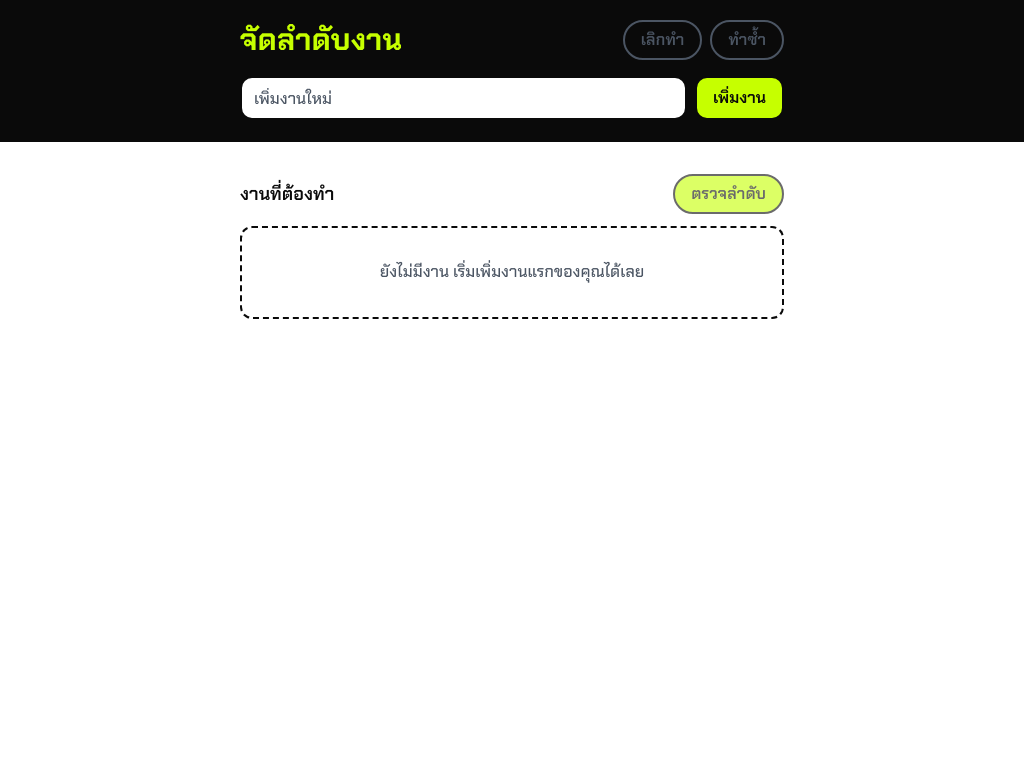
Test: review mode (slice 1) › AC-6.4 focus goes to the upper card on open and back to the review button after closing with the close button
Type "A" into the field labelled "เพิ่มงานใหม่".
click(464, 98); type("A")  # box top-left (240, 76), bottom-right (687, 120)
Then press Enter
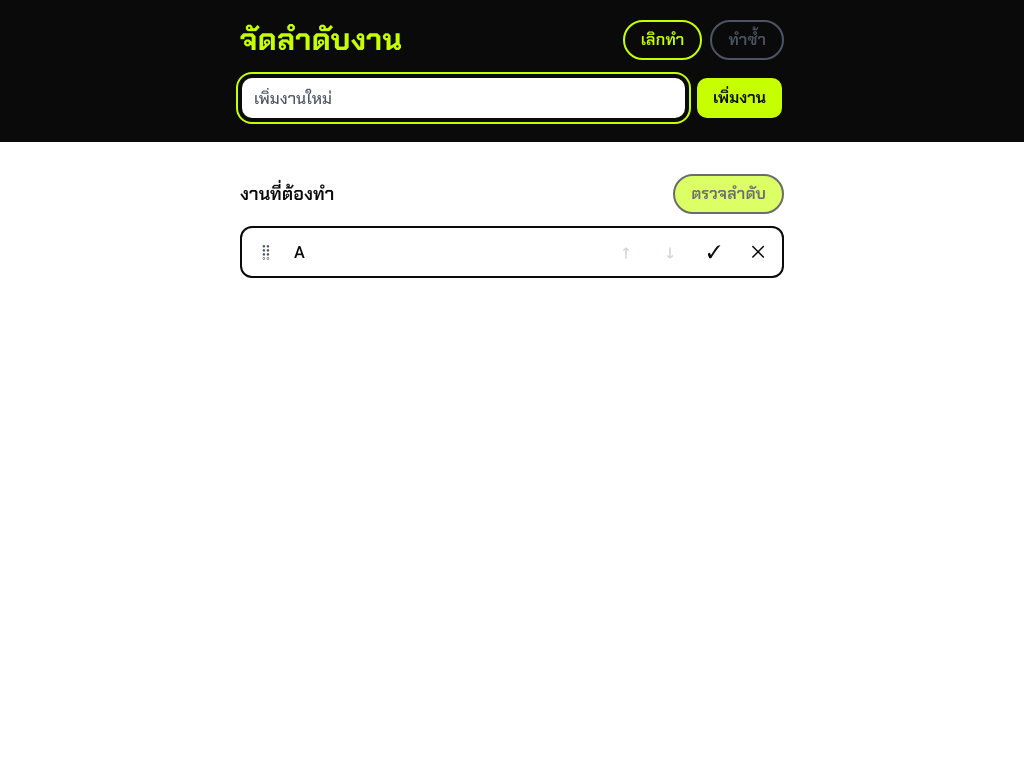
Type "B" into the field labelled "เพิ่มงานใหม่".
click(464, 98); type("B")  # box top-left (240, 76), bottom-right (687, 120)
Then press Enter
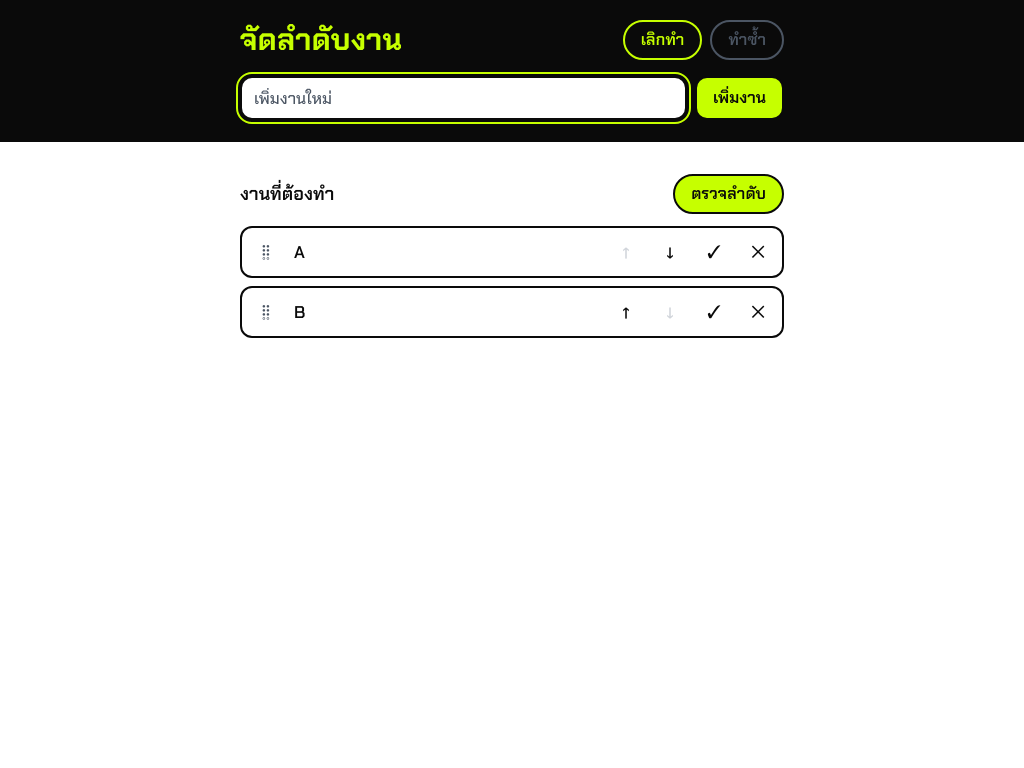
Click the button "ตรวจลำดับ".
click(729, 194)  # box top-left (673, 174), bottom-right (784, 214)
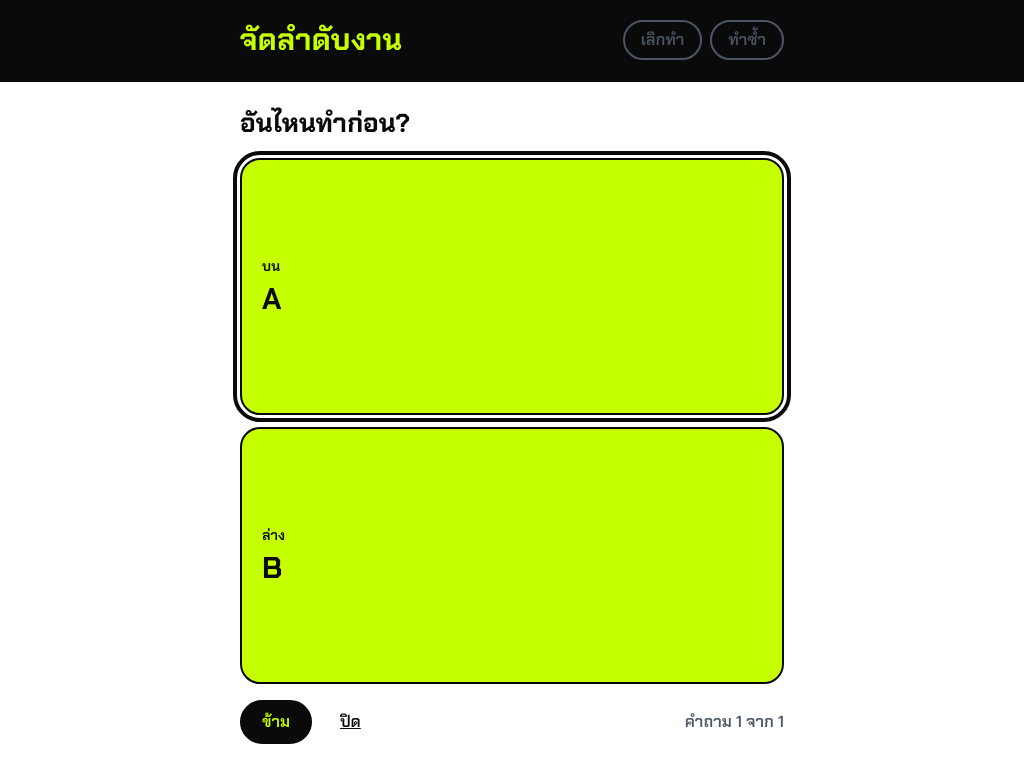
Click the button "ปิด".
click(350, 722)  # box top-left (320, 700), bottom-right (381, 744)
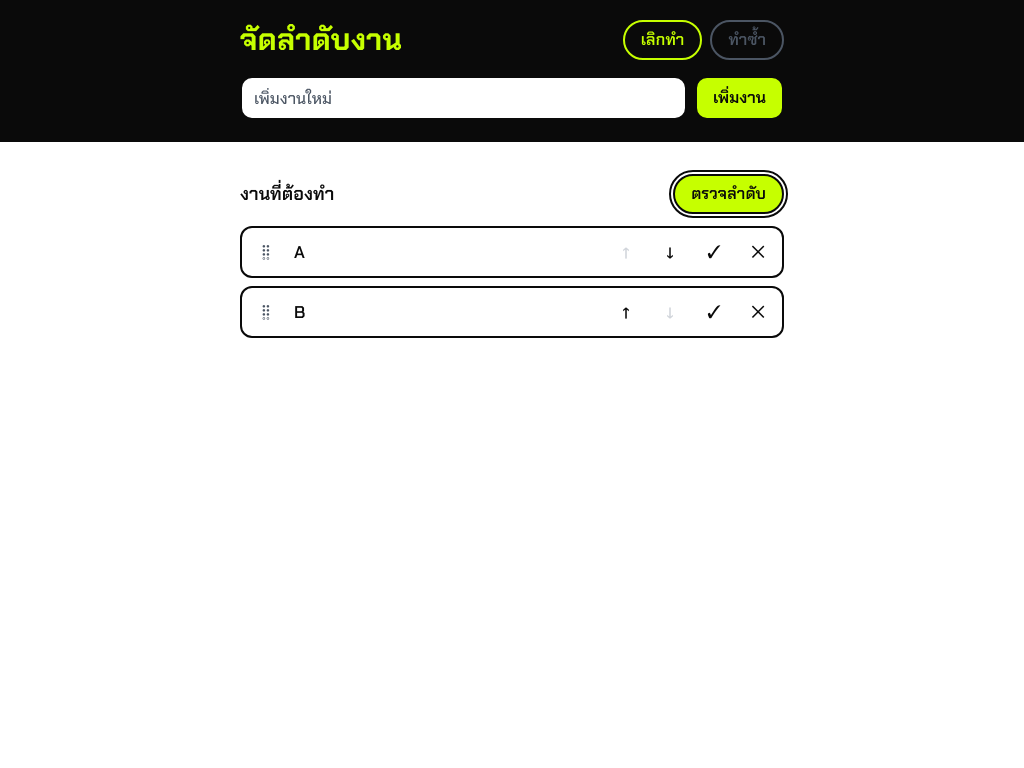
Expected: the dialog is gone
